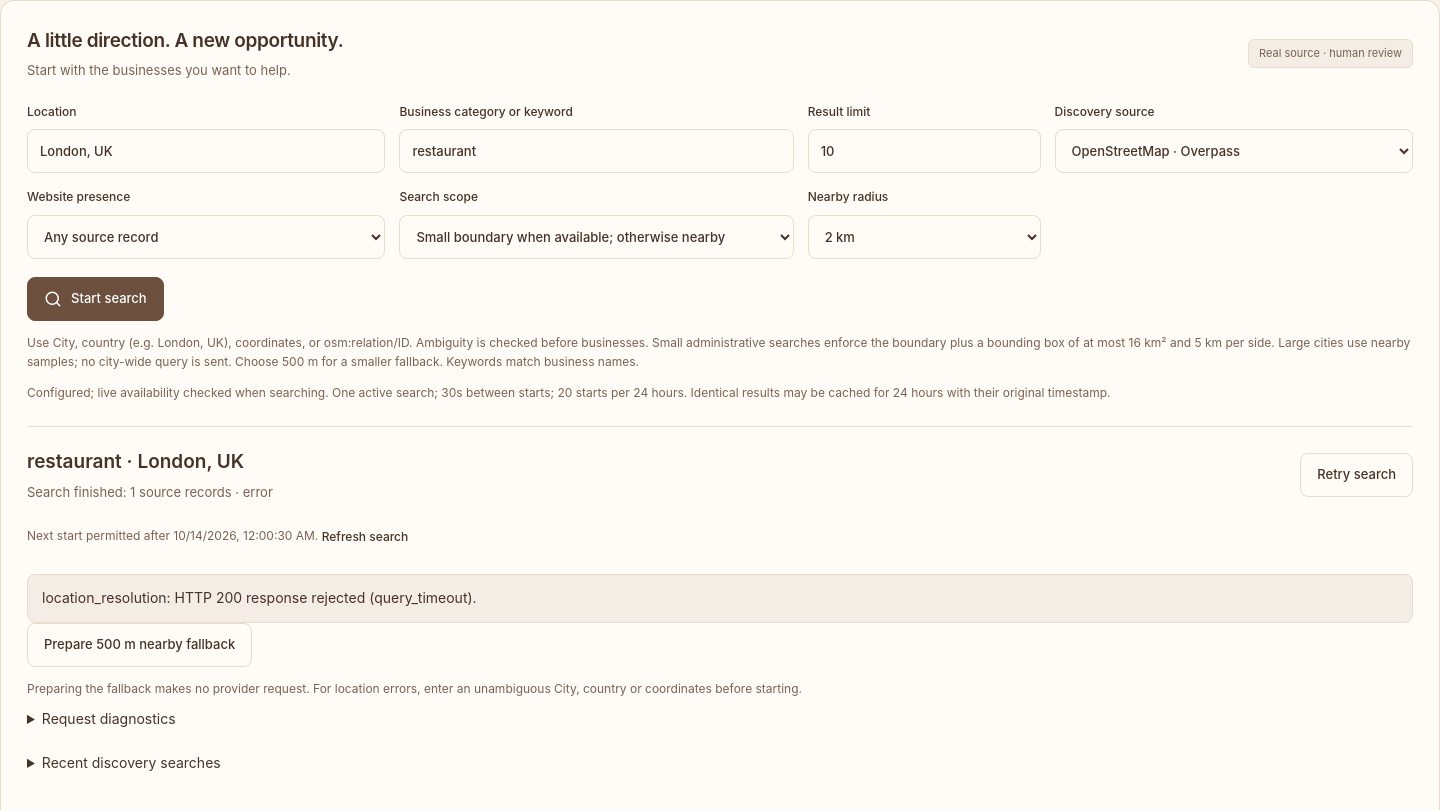
Test case: shows classified HTTP 200 remark diagnostics and prepares a smaller fallback without a request
The width and height of the screenshot is (1440, 810).
Check: the message "location_resolution: HTTP 200 response rejected (query_timeout)." is shown, box [27, 574, 1413, 623]
Click the heading "Request diagnostics" at [109, 718], box [42, 710, 176, 727]
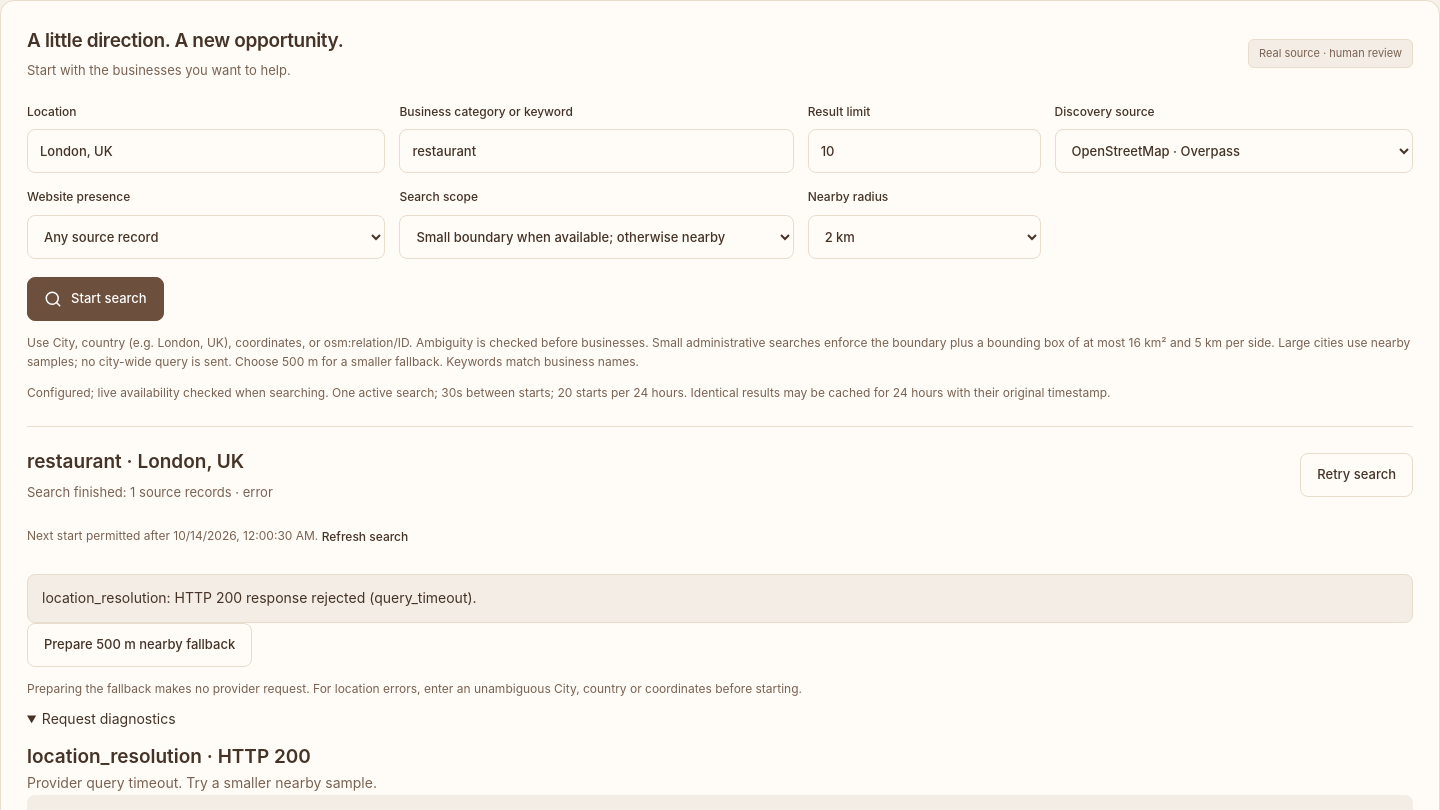
Check: the heading "location_resolution · HTTP 200" is shown, box [27, 745, 311, 768]
Click the button "Prepare 500 m nearby fallback" at [140, 645], box [27, 623, 252, 667]
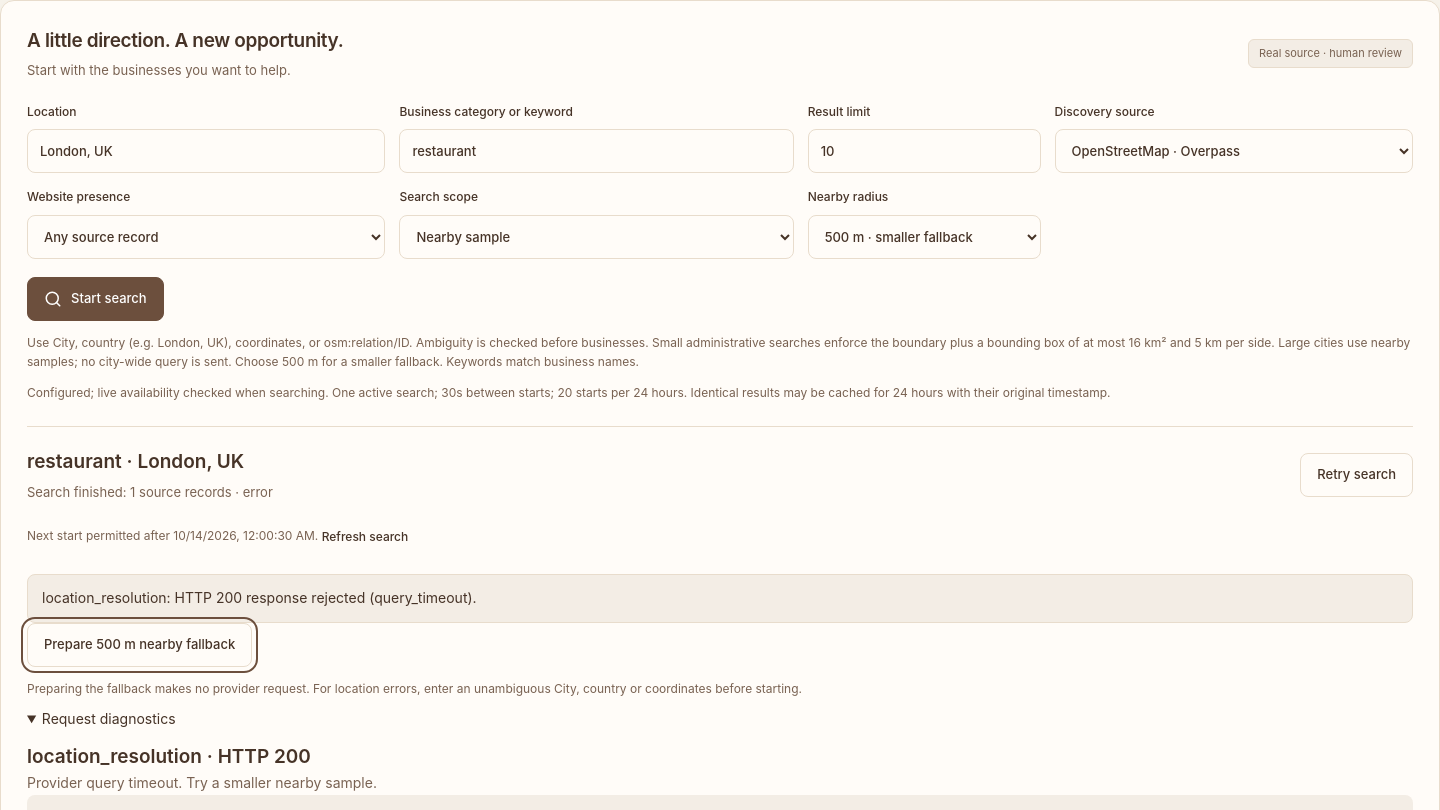
Check: the field labelled "Location" holds "London, UK", box [27, 129, 385, 173]
Check: the dropdown labelled "Nearby radius" shows "500 m · smaller fallback", box [808, 215, 1041, 259]
Check: the dropdown labelled "Search scope" shows "Nearby sample", box [399, 215, 794, 259]
